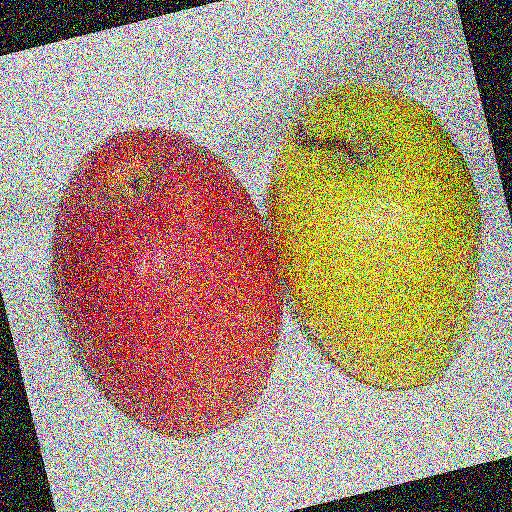fruit: (119, 103, 447, 495), (414, 61, 512, 416)
